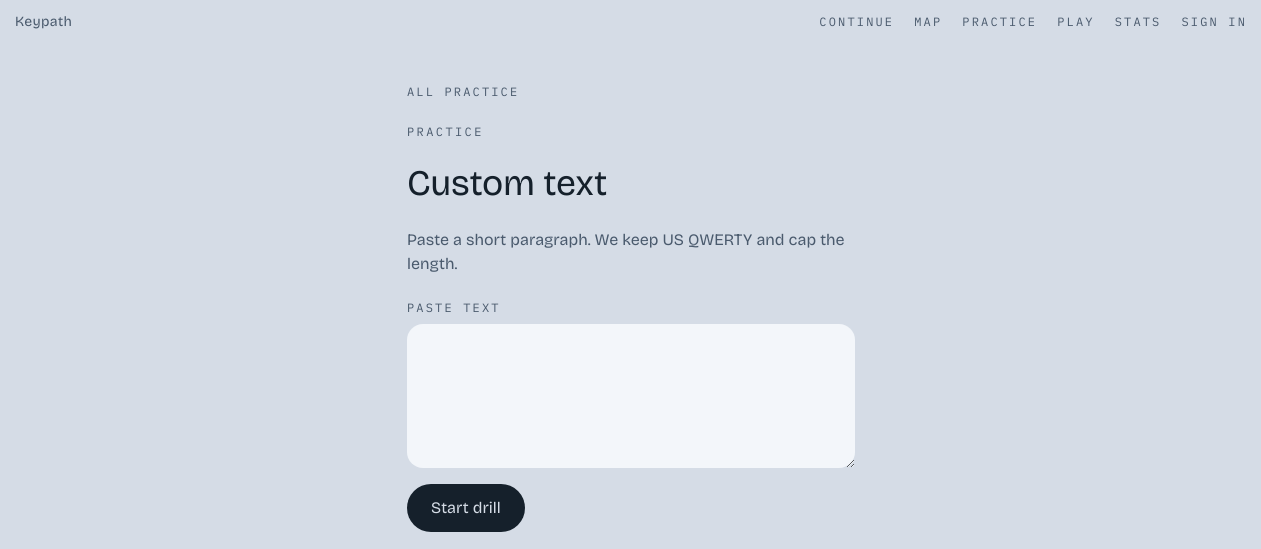
Test: PracticePlayer › starts a custom drill from cleaned US QWERTY text
This screenshot has width=1261, height=549.
Type "Hello, world." into the text box labelled "Paste text".
click(631, 396); type("Hello, world.")  # box left=407, top=324, right=855, bottom=468
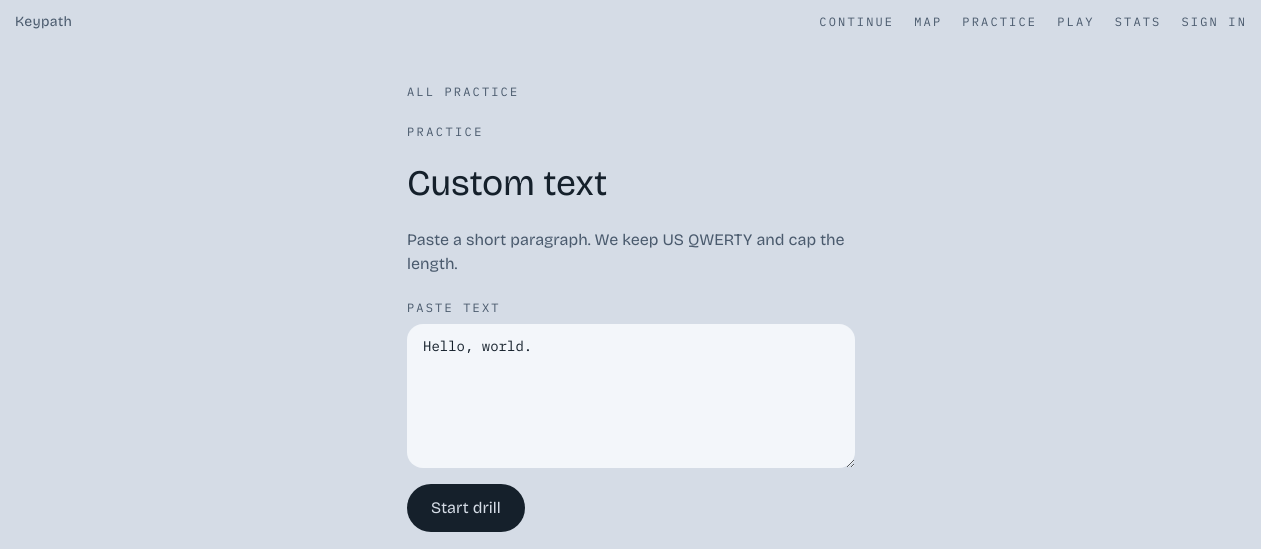
Click the button "Start drill".
click(466, 508)  # box left=407, top=484, right=525, bottom=532
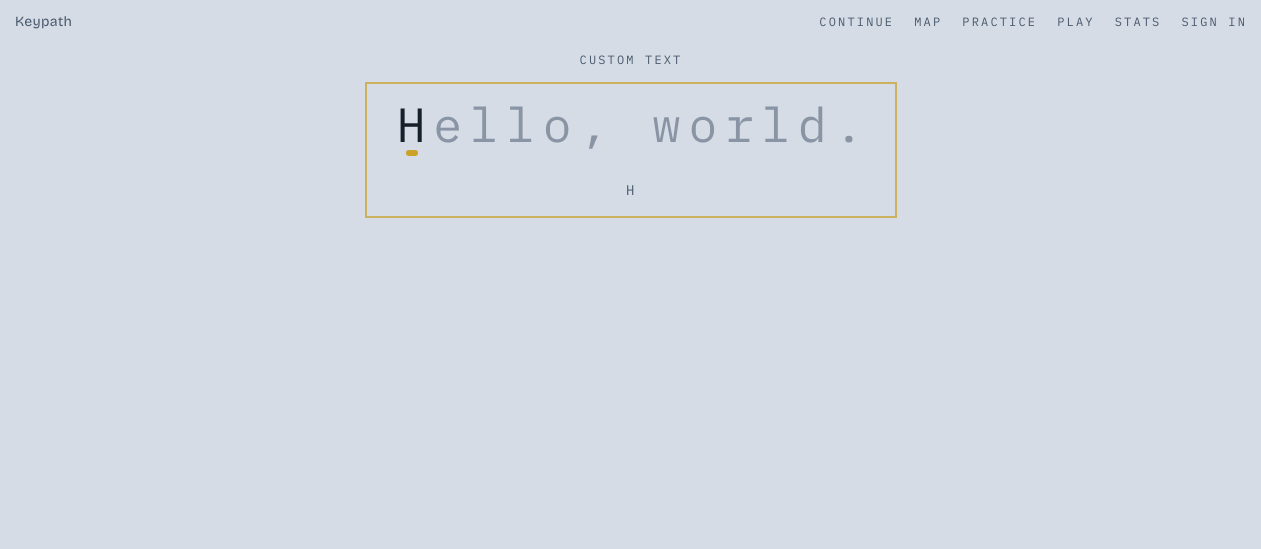
Now the element named "typing lesson" is shown, box left=367, top=84, right=895, bottom=216
